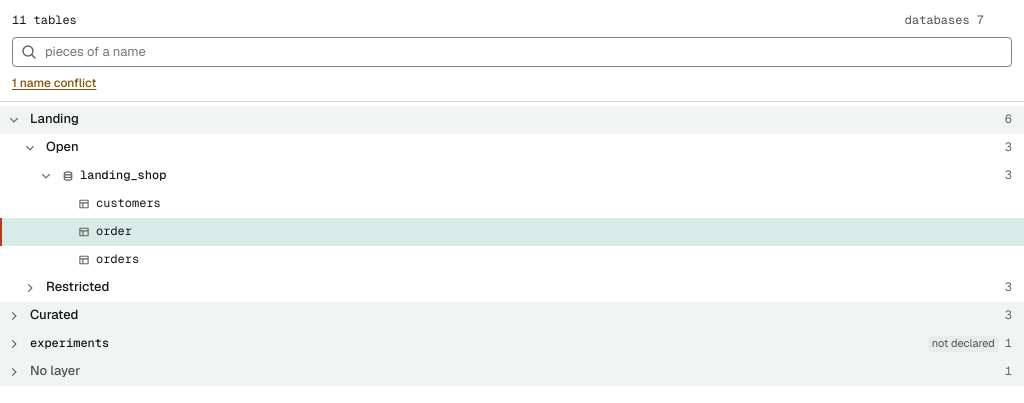
Test: CatalogTree roving focus › gives the tab stop back to the chosen row once it is shown again
Focus the link "orders" at (118, 259), box [96, 251, 139, 267]
Click the button named "Fold or unfold landing_shop".
click(46, 176)  # box [36, 166, 56, 186]
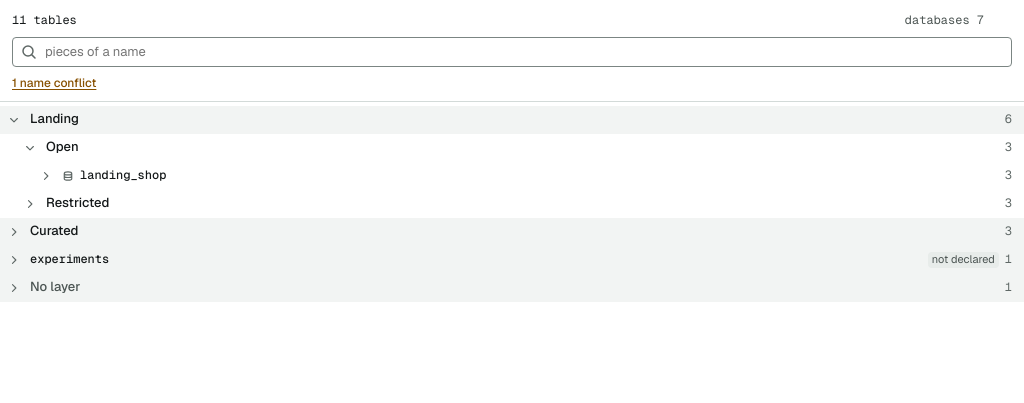
Now the link "orders" no longer shows "orders"
Click the button named "Fold or unfold landing_shop".
click(46, 176)  # box [36, 166, 56, 186]
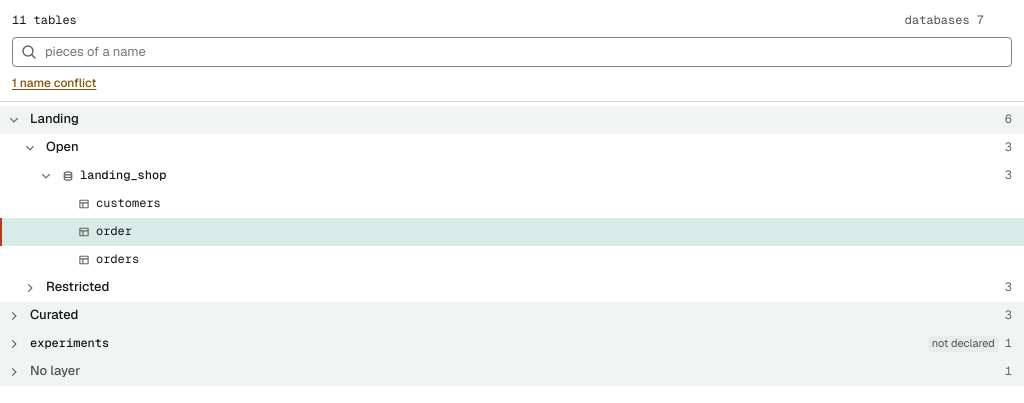
Now the link "orders" is shown, box [96, 251, 139, 267]
